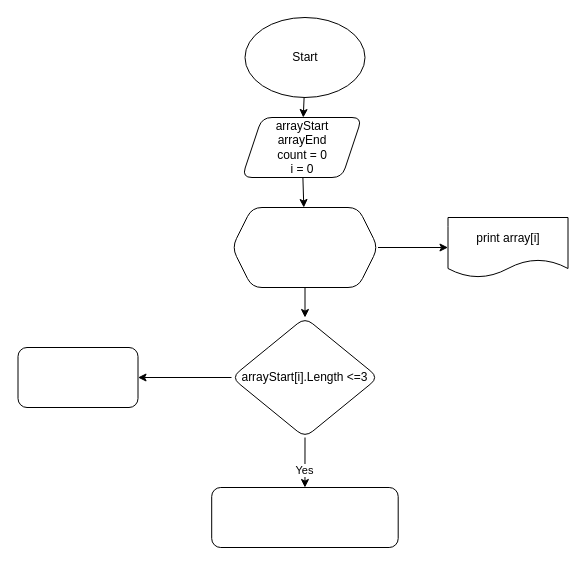
Image size: 585x565. Some labels were removed from this diagram. The box of each missing label's shape, as (x1, y1, x2, y2) in pixels:
arrayEnd[count] = arrayStart[i]; count++: (211, 486, 398, 548)
i = 0 i < arrayStart.Length: (231, 206, 378, 288)
